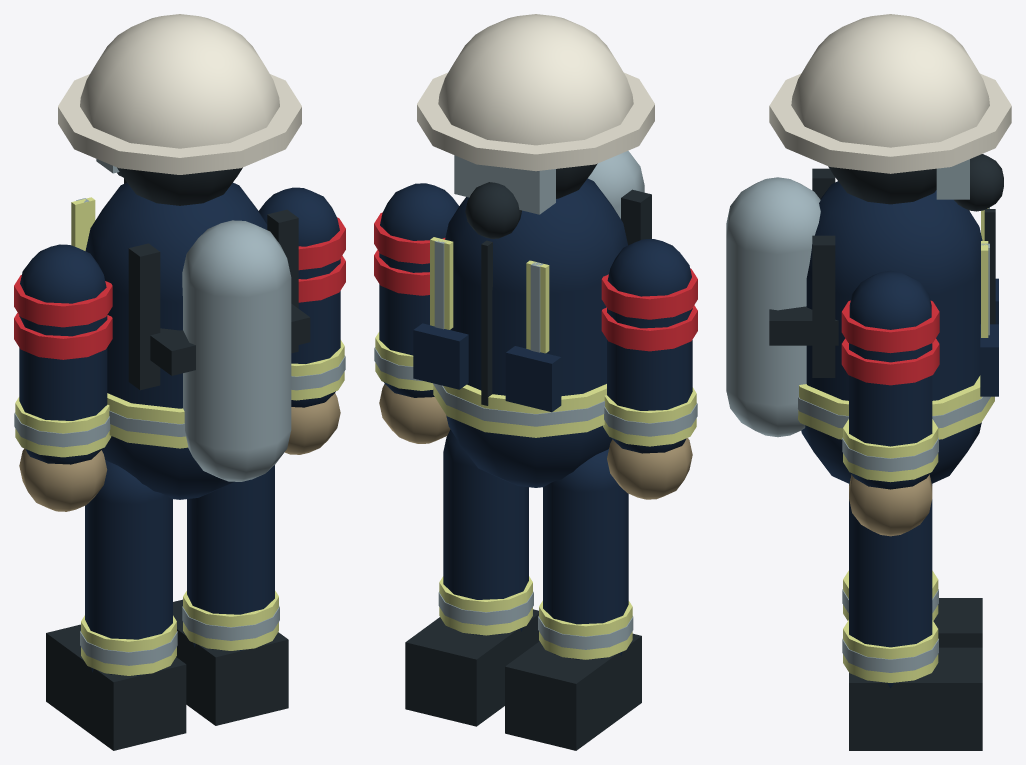
Rendered from geo-leader.glb.
3 renders of one model, left to right at view 1: azimuth 30°, elevation 25°; view 2: azimuth 150°, elevation 25°; view 3: azimuth 270°, elevation 25°, orthographic. The views are drawn at different scales.
Bounding box in the file's own units: 0.874 × 1.81 × 0.6836.
